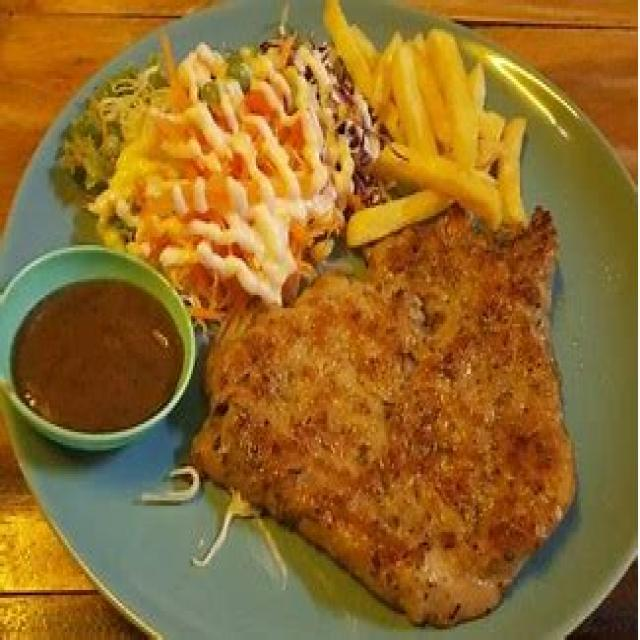carb: (325, 1, 527, 248)
meat: (194, 208, 576, 625)
vegetable: (60, 36, 387, 326)
